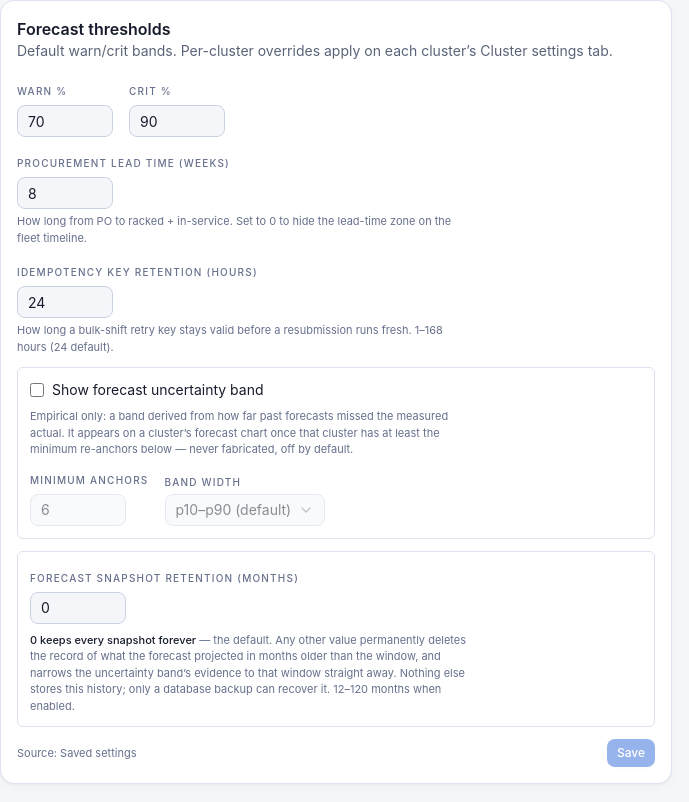
Test case: <ForecastThresholdsForm> › disables Save until a value changes
The width and height of the screenshot is (689, 802).
Expected: the button "Save" is disabled, [607,739,655,767]
Replace the text in the number field labelled "Warn %" with "65" at (65, 121), box [17,105,113,137]
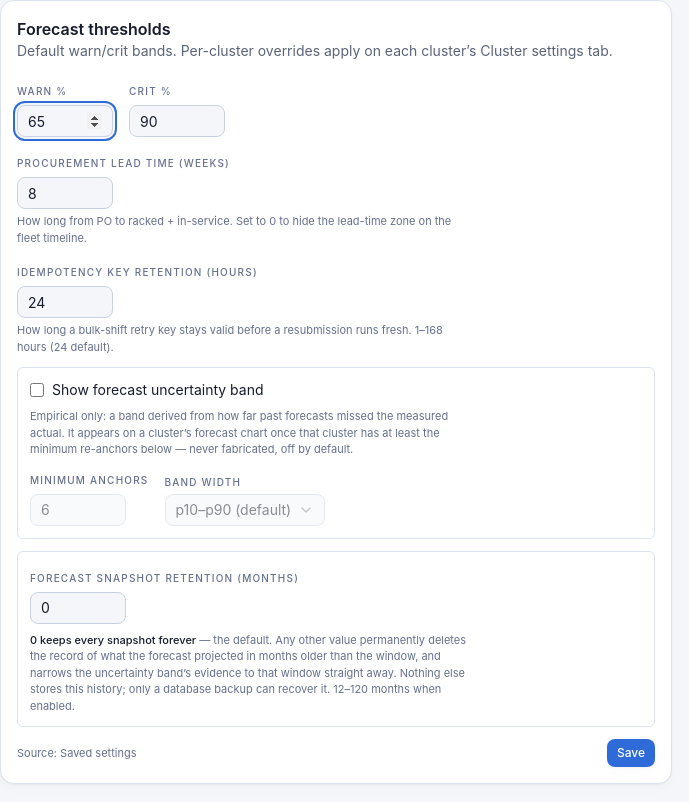
Result: the button "Save" is enabled at [607,739,655,767]
